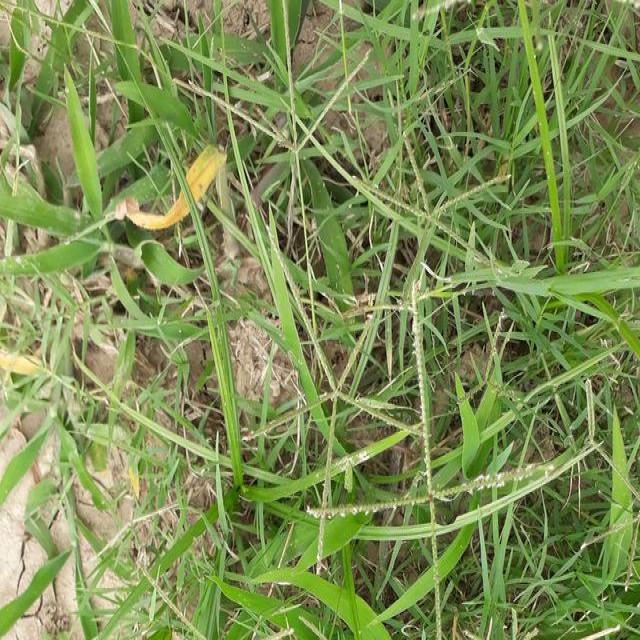weed: (149, 20, 640, 605)
